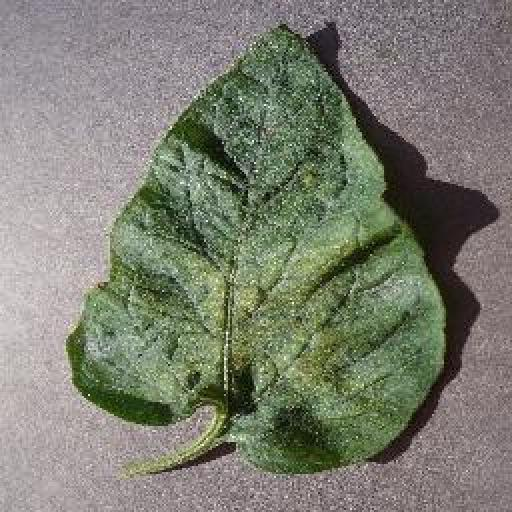disease_tomato: (68, 24, 447, 475)
